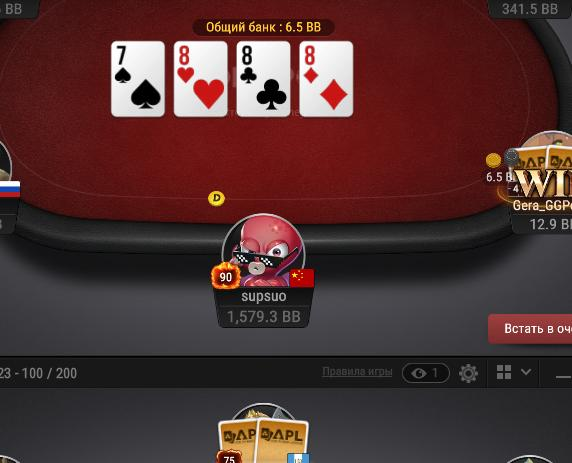7s: (113, 42, 164, 115)
8c: (238, 42, 289, 115)
8d: (299, 41, 351, 114)
8h: (176, 42, 229, 117)
